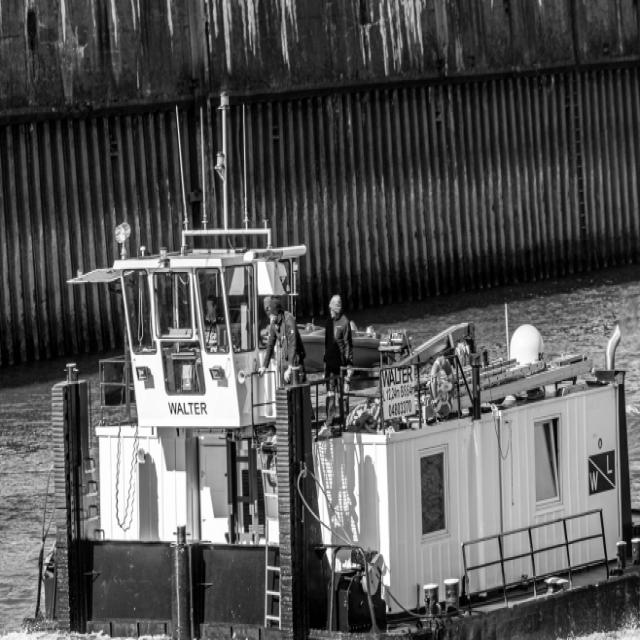tugboat: (22, 89, 640, 640)
